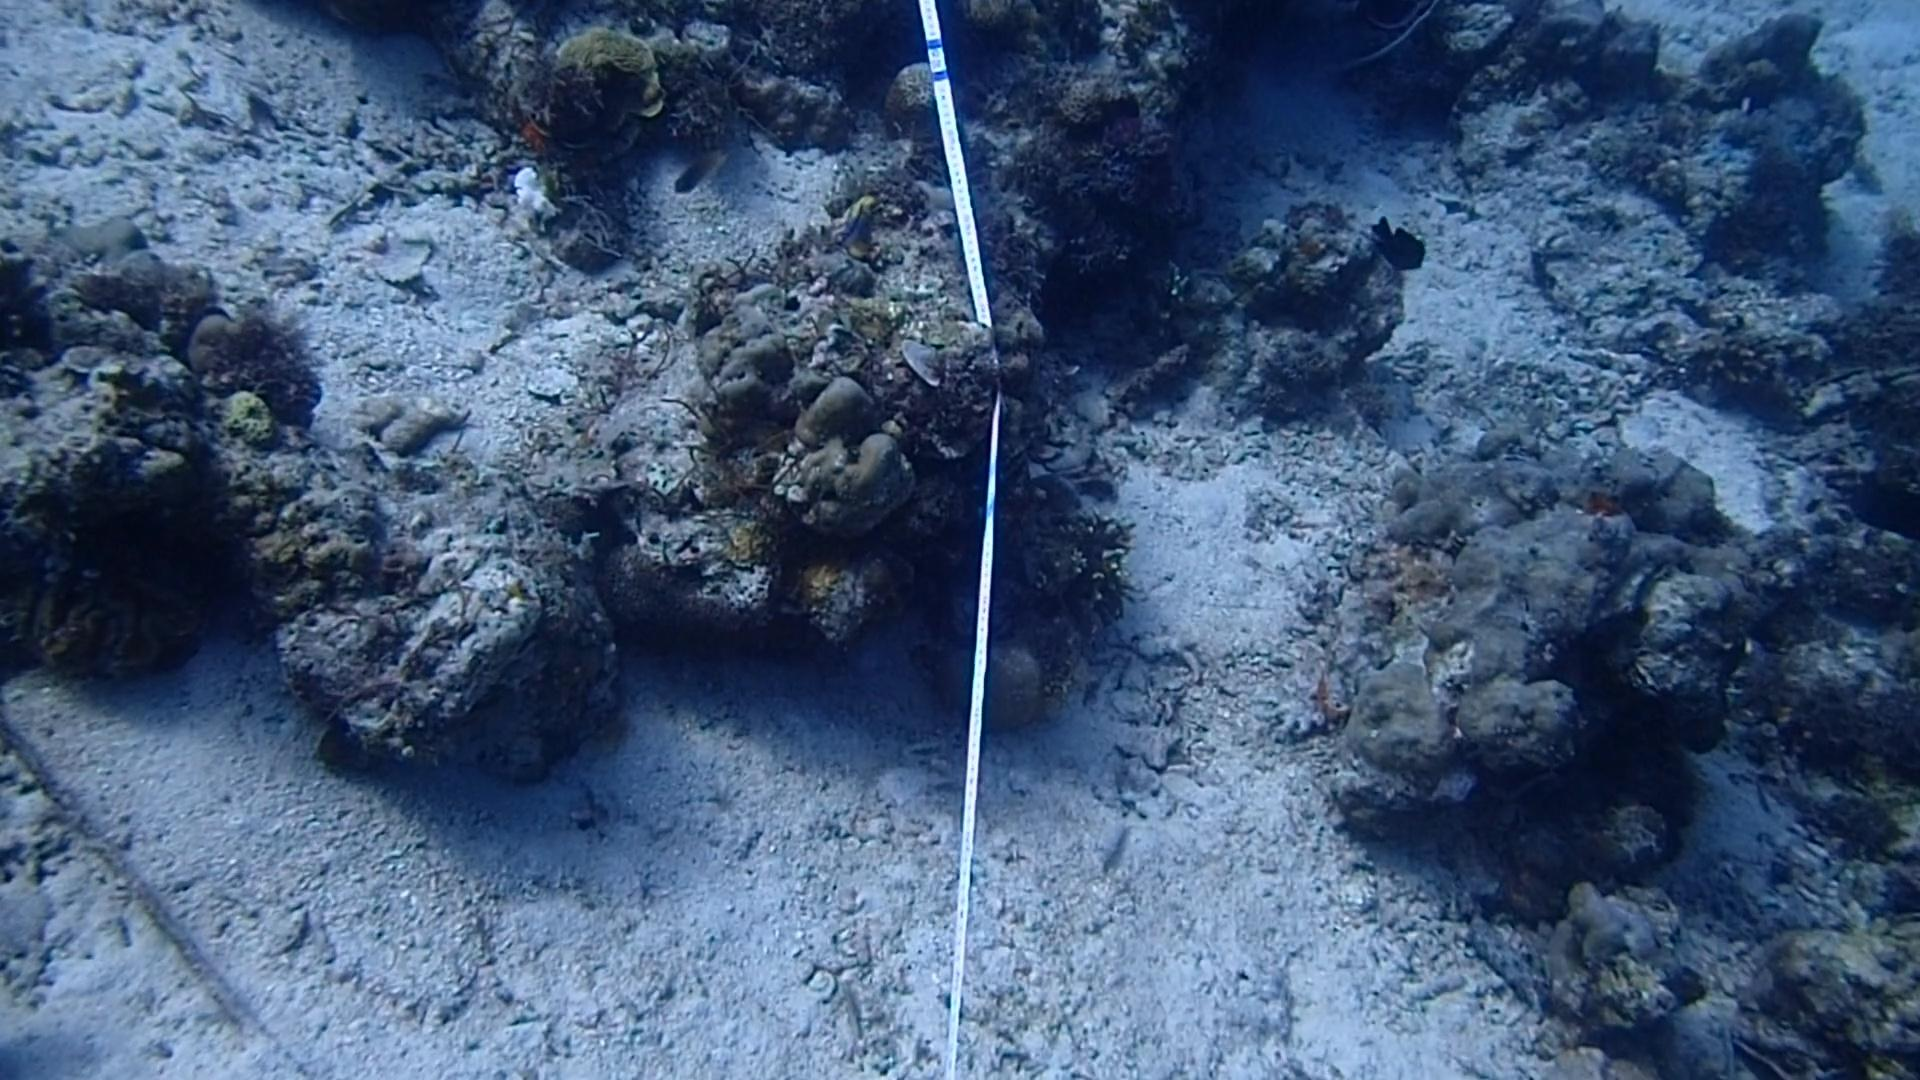Dark Fish: (1844, 473, 1920, 546), (1365, 204, 1431, 273)
Light Fish: (662, 142, 736, 206)
